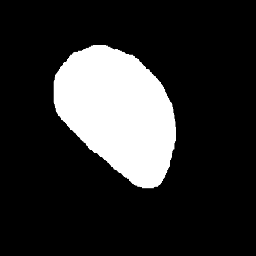mass: (58, 47, 161, 182)
